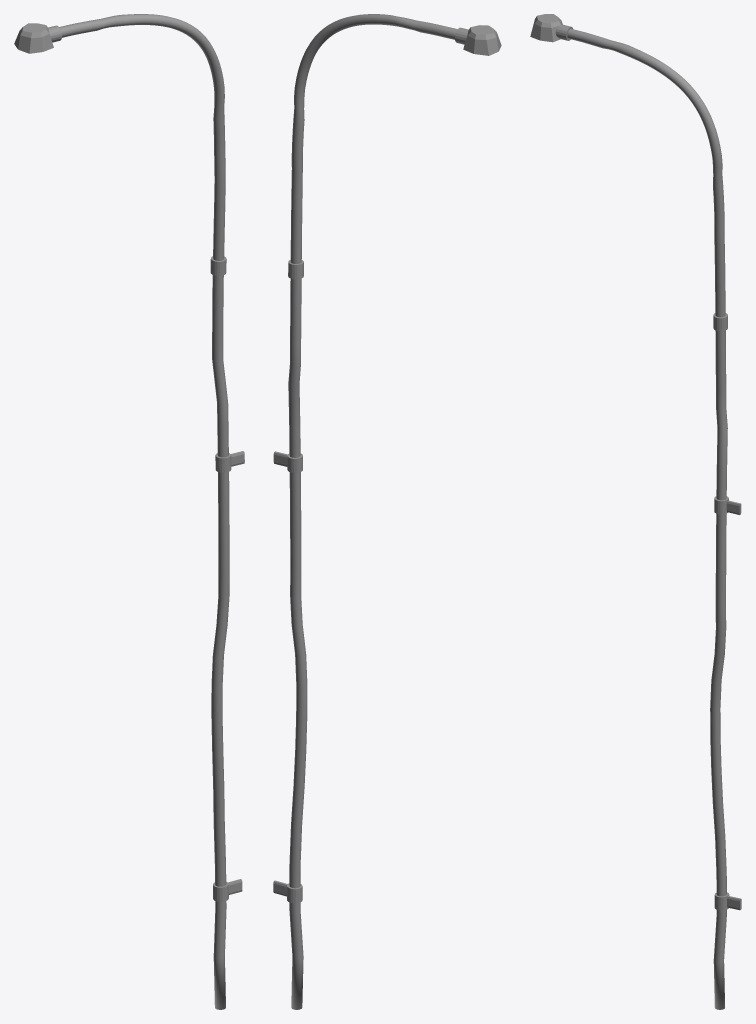
File: Shower2.0.fbx
3 views of the same model, side by side, from view 1: azimuth 30°, elevation 25°; view 2: azimuth 150°, elevation 25°; view 3: azimuth 330°, elevation 25° (orthographic). The views are drawn at different scales.
Parts seen in each view (by area): view 1: Shower.001; view 2: Shower.001; view 3: Shower.001.
Part boxes in pixels (x1=…): Shower.001: x1=14, y1=14, x2=244, y2=1009; Shower.001: x1=273, y1=14, x2=501, y2=1009; Shower.001: x1=530, y1=14, x2=741, y2=1009.
Size of the model in its own units: 51.07 by 222 by 6.8.
Materials: 1 (1 with a texture image).
